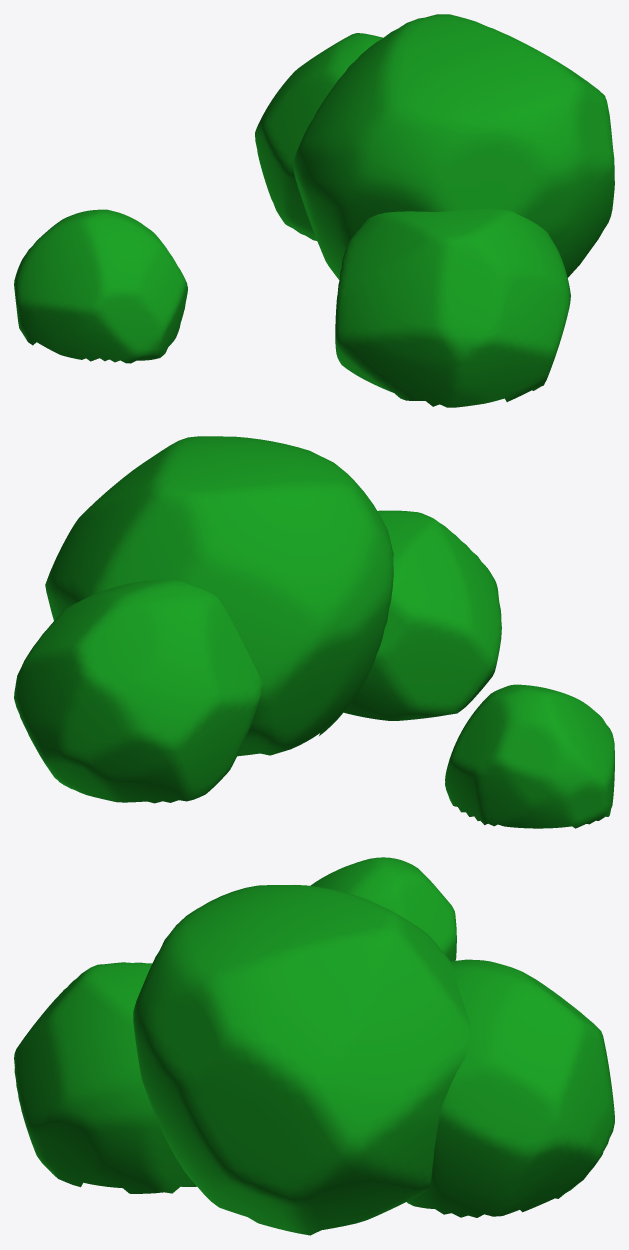
Rendered from buission 2.FBX.
3 views of the same model, one above another, from view 1: azimuth 30°, elevation 25°; view 2: azimuth 150°, elevation 25°; view 3: azimuth 270°, elevation 25° (orthographic). The views are drawn at different scales.
Visible parts, largest first — view 1: GeoSphere005; view 2: GeoSphere005; view 3: GeoSphere005.
Boxes of the visible parts, x1,y1,x2,y2 form: GeoSphere005: [14, 14, 614, 407]; GeoSphere005: [14, 436, 614, 828]; GeoSphere005: [14, 857, 614, 1235].
Size of the model in its own units: 164 by 71.32 by 138.
